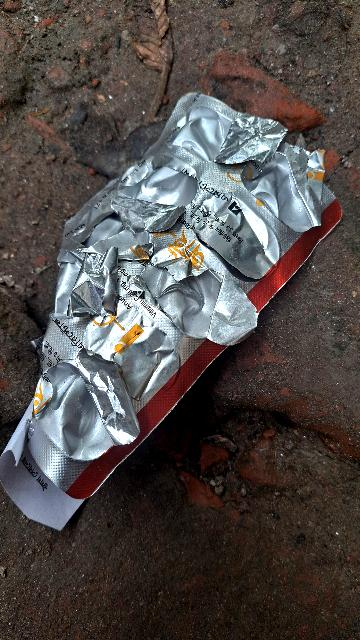medicine: (3, 94, 346, 525)
